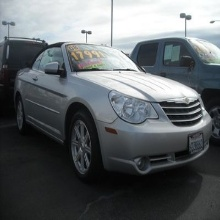no damage: (14, 41, 213, 184)
